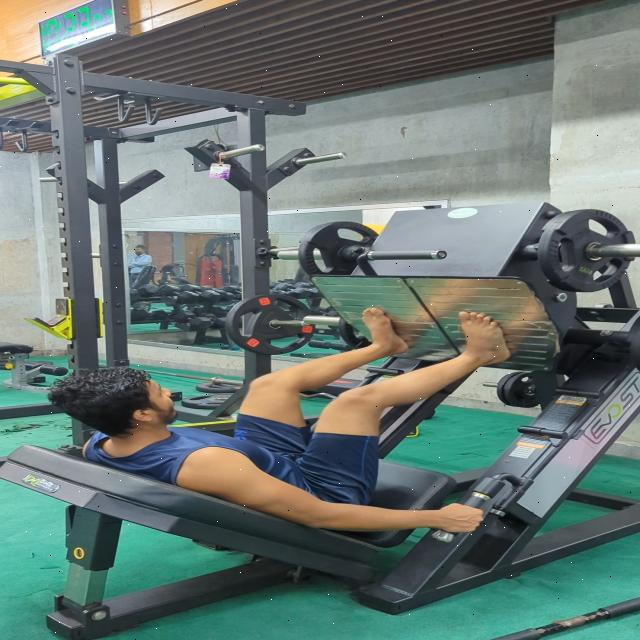Normal_LegPress: (44, 305, 534, 543)
